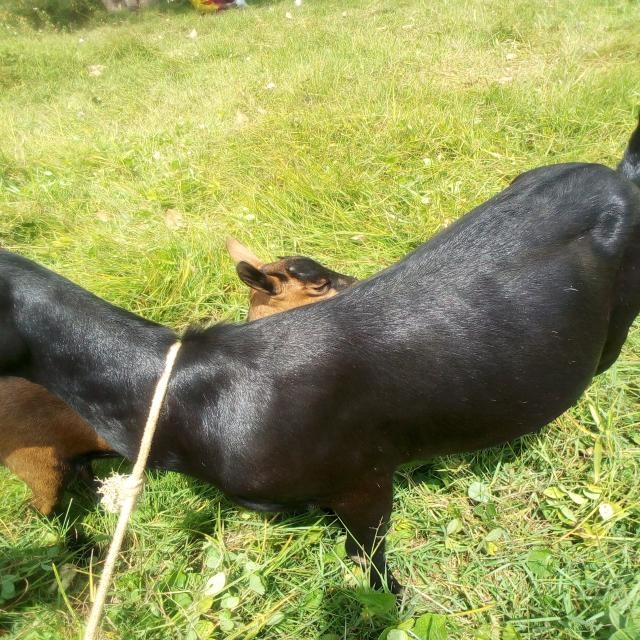goat: (2, 94, 640, 623)
